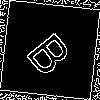B: (24, 24, 81, 79)
